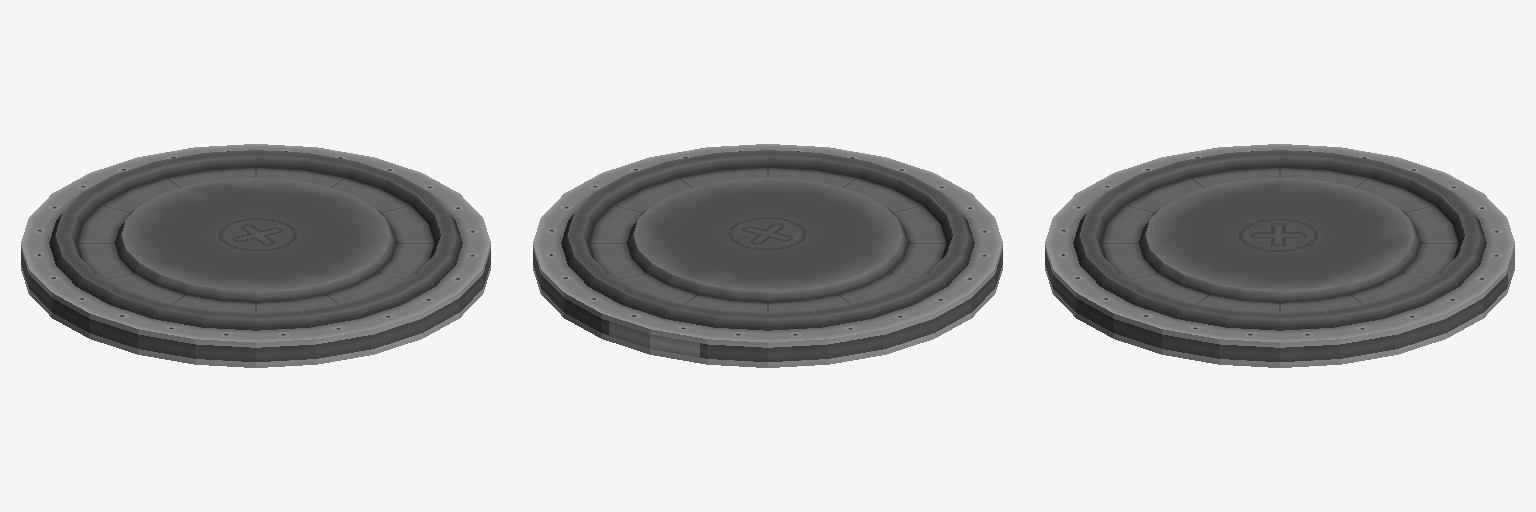
3 renders of one model, left to right at view 1: azimuth 30°, elevation 25°; view 2: azimuth 150°, elevation 25°; view 3: azimuth 270°, elevation 25°, orthographic.
Visible parts, largest first — view 1: Arrow_Control_A; view 2: Arrow_Control_A; view 3: Arrow_Control_A.
Boxes of the visible parts, <box> form: Arrow_Control_A: <box>21,144,490,367</box>; Arrow_Control_A: <box>533,144,1002,367</box>; Arrow_Control_A: <box>1045,144,1514,367</box>.
Bounding box in the file's own units: 1.25 × 0.125 × 1.25.
Materials: 1 (1 with a texture image).